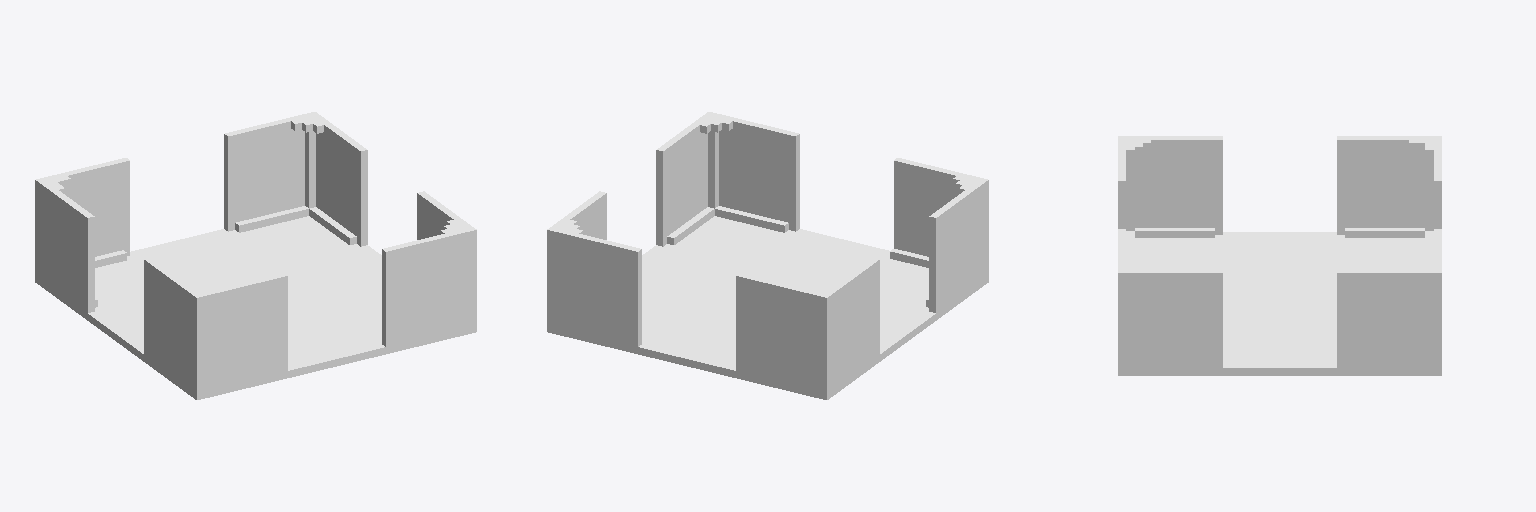
Rendered from room.vox.obj.
3 renders of one model, left to right at view 1: azimuth 30°, elevation 25°; view 2: azimuth 150°, elevation 25°; view 3: azimuth 270°, elevation 25°, orthographic.
Visible parts, largest first — view 1: object 1; view 2: object 1; view 3: object 1.
Part boxes in pixels (x1,y1,x2,y2): object 1: (35,112,476,399); object 1: (547,112,988,399); object 1: (1118,136,1441,375).
Bounding box in the file's own units: 4 × 1.4 × 4.